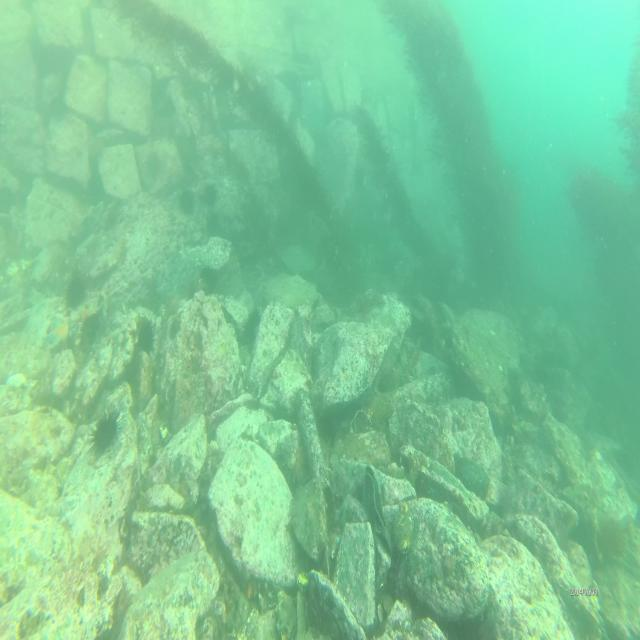echinus: (88, 416, 121, 455), (281, 438, 306, 484), (63, 276, 89, 312), (136, 314, 156, 358), (178, 185, 196, 216), (202, 178, 217, 212)
